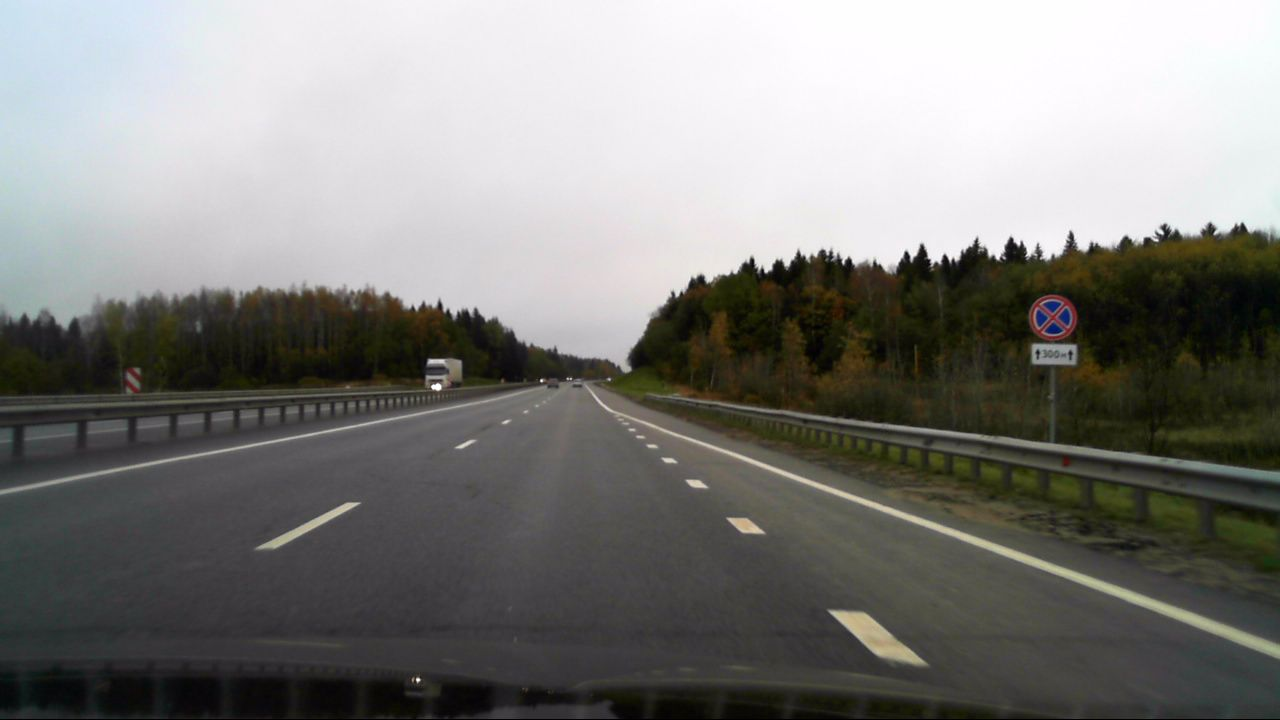No Parking: (1031, 296, 1076, 338)
